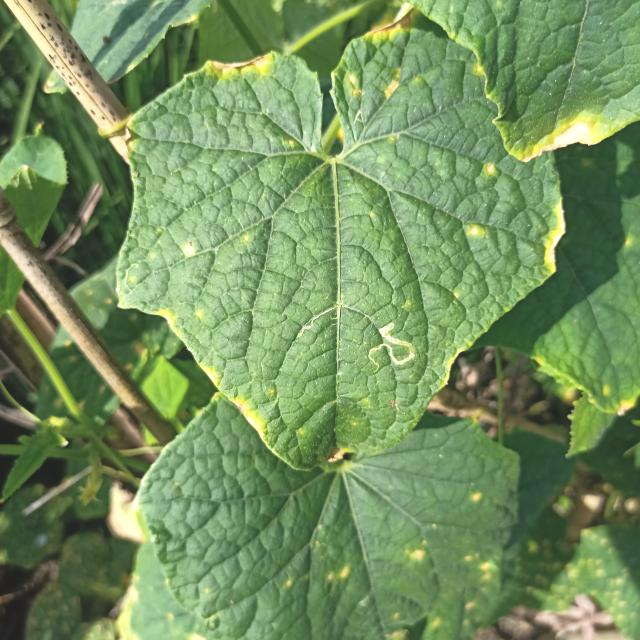disease_cucumber: (344, 63, 404, 107), (158, 302, 206, 331), (463, 222, 485, 240), (180, 241, 200, 260), (484, 162, 496, 176)
